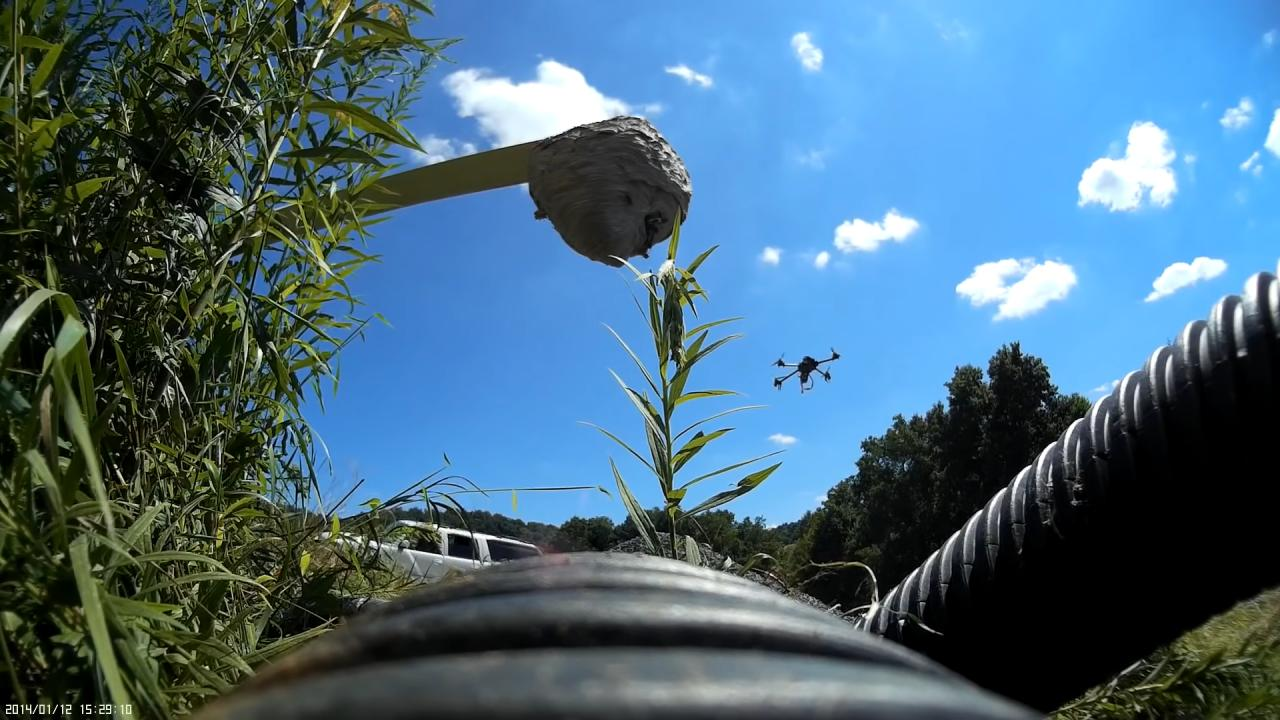Drone: (763, 338, 847, 402)
